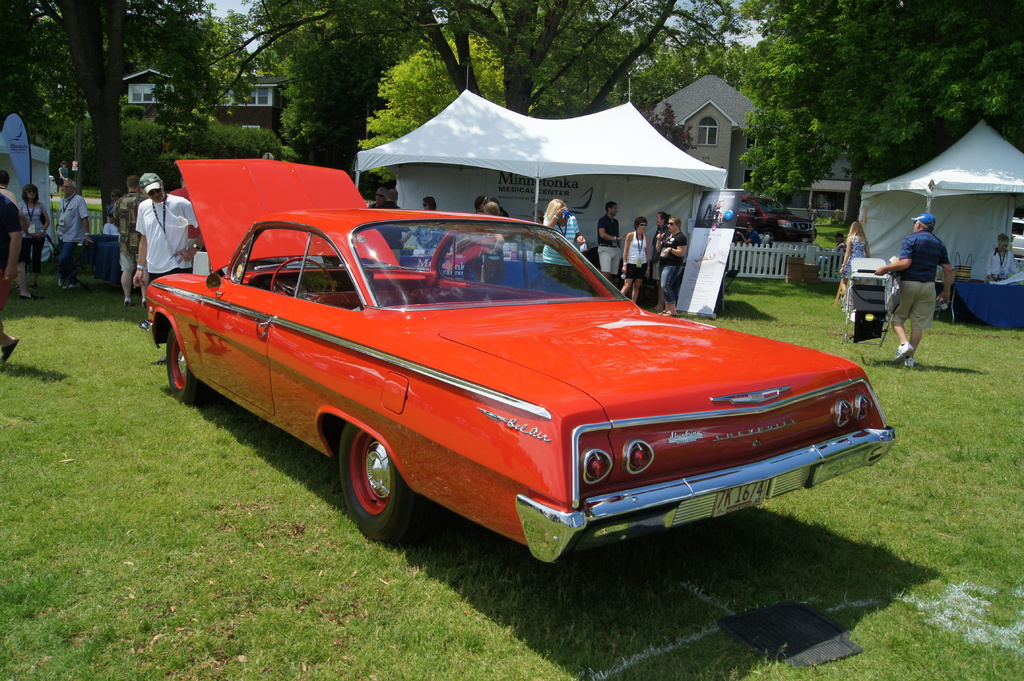Car: (140, 156, 897, 567), (735, 195, 817, 252)
